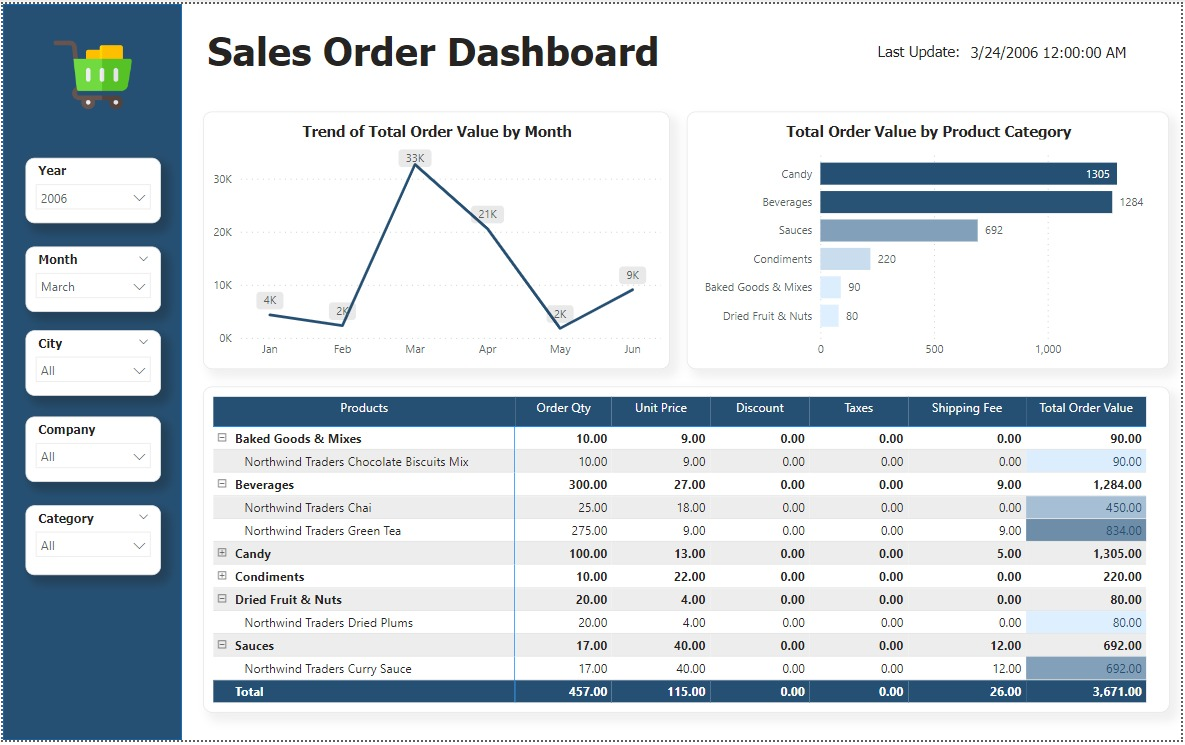

The dashboard page shown, as its layout file describes it:
{"tool":"powerbi","page":{"name":"Order Dashboard","canvas":[1280,800],"ordinal":0},"visuals":[{"type":"shape","box":[0,0,194.3,800],"z":0},{"type":"lineChart","title":"Trend of Total Order Value by Month","fields":{"Y":["Sum(FACT_ORDERS.ORDER_TOTAL_VALUE)"],"Category":["DIM_DATES.MONTHNAME"]},"box":[217.1,117.1,507.1,280],"z":1000},{"type":"slicer","title":"Year","fields":{"Values":["DIM_DATES.DATE.Variation.Date Hierarchy.Year"]},"box":[24.3,167.1,147.1,71.4],"z":2000},{"type":"slicer","title":"Year","fields":{"Values":["DIM_DATES.DATE.Variation.Date Hierarchy.Month"]},"box":[24.3,262.9,147.1,71.4],"z":3000},{"type":"slicer","title":"Year","fields":{"Values":["DIM_CUSTOMERS.CUST_CITY"]},"box":[24.3,354.3,147.1,71.4],"z":4000},{"type":"slicer","title":"Year","fields":{"Values":["DIM_CUSTOMERS.CUST_COMPANY"]},"box":[24.3,448.6,147.1,71.4],"z":5000},{"type":"slicer","title":"Year","fields":{"Values":["DIM_PRODUCTS.PROD_CATEGORY"]},"box":[24.3,544.3,147.1,75.7],"z":6000},{"type":"clusteredBarChart","title":"Total Order Value by Product Category","fields":{"Y":["Sum(FACT_ORDERS.ORDER_TOTAL_VALUE)"],"Category":["DIM_PRODUCTS.PROD_CATEGORY"]},"box":[742.9,117.1,524.3,280],"z":8000},{"type":"pivotTable","title":"Trend of Total Order Value by Month","fields":{"Rows":["DIM_PRODUCTS.PROD_CATEGORY","DIM_PRODUCTS.PROD_NAME"],"Values":["Sum(FACT_ORDERS.ORDER_QTY)","Sum(FACT_ORDERS.ORDER_UNIT)","Sum(FACT_ORDERS.ORDER_DISCOUNT)","Sum(FACT_ORDERS.ORDER_TAX)","Sum(FACT_ORDERS.ORDER_SHIPFEE)","Sum(FACT_ORDERS.ORDER_TOTAL_VALUE)"]},"box":[217.1,415.7,1050,354.3],"z":9000},{"type":"textbox","box":[217.1,20,538.6,67.1],"z":9001},{"type":"card","fields":{"Values":["FACT_ORDERS.Last Order Date"]},"box":[1015.7,32.9,240,44.3],"z":9002},{"type":"textbox","box":[945.7,37.1,121.4,35.7],"z":9003},{"type":"image","box":[50,25.7,94.3,102.9],"z":9004}]}

Visuals, with their boxes in screenshot pixels (x1, y1, x2, y2), scaled from the page's 1280x800 canvas onto the 1185x745 screenshot:
shape: 0, 0, 180, 744
"Trend of Total Order Value by Month" lineChart: 201, 109, 670, 370
"Year" slicer: 22, 156, 159, 222
"Year" slicer: 22, 245, 159, 311
"Year" slicer: 22, 330, 159, 396
"Year" slicer: 22, 418, 159, 484
"Year" slicer: 22, 507, 159, 577
"Total Order Value by Product Category" clusteredBarChart: 688, 109, 1173, 370
"Trend of Total Order Value by Month" pivotTable: 201, 387, 1173, 717
textbox: 201, 19, 700, 81
card - FACT_ORDERS.Last Order Date: 940, 31, 1163, 72
textbox: 876, 35, 988, 68
image: 46, 24, 134, 120
